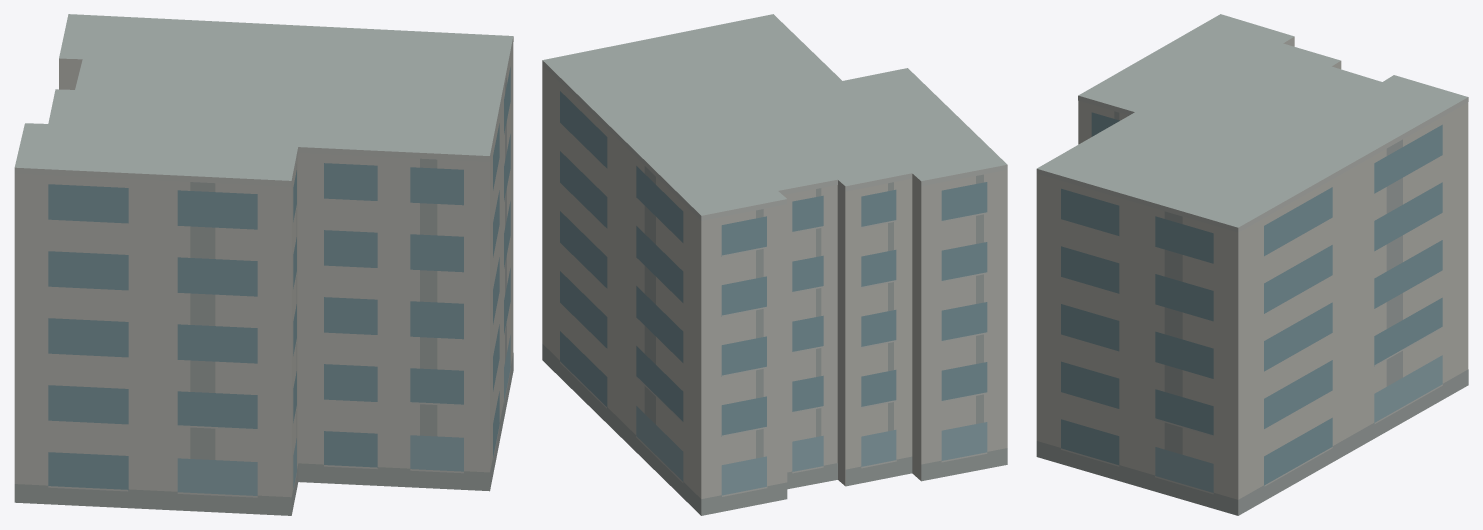
File: survey-upis-32814899.glb
3 renders of one model, left to right at view 1: azimuth 30°, elevation 25°; view 2: azimuth 150°, elevation 25°; view 3: azimuth 270°, elevation 25°, orthographic. The views are drawn at different scales.
Parts seen in each view (by area): view 1: survey-upis-32814899.tmp; view 2: survey-upis-32814899.tmp; view 3: survey-upis-32814899.tmp.
Boxes of the visible parts, left/top/right/bottom form: survey-upis-32814899.tmp: left=14, top=14, right=513, bottom=515; survey-upis-32814899.tmp: left=542, top=14, right=1007, bottom=515; survey-upis-32814899.tmp: left=1036, top=14, right=1468, bottom=515.
Size of the model in its own units: 21.95 by 13.8 by 18.75.
